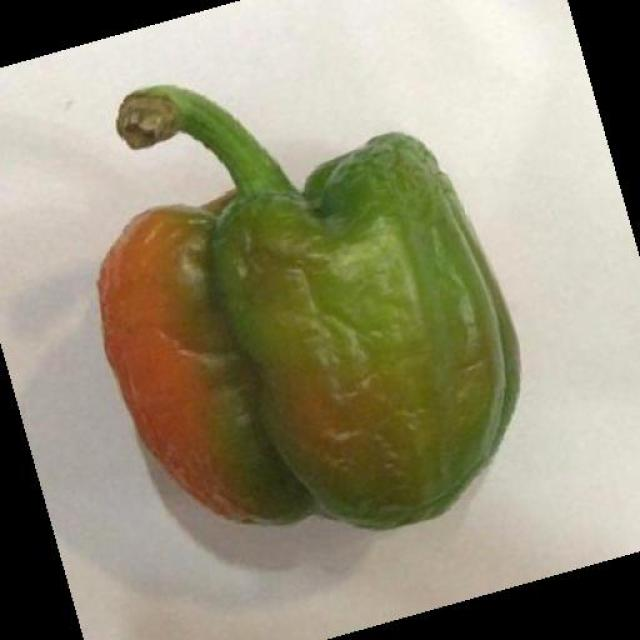Stale_Capsicum: (64, 96, 542, 534)
